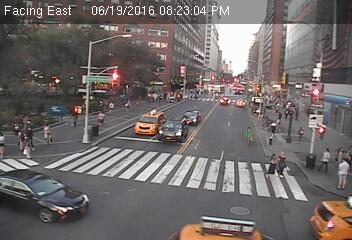neg: (15, 73, 34, 99), (35, 49, 51, 70), (322, 74, 338, 95), (337, 96, 351, 118), (98, 125, 112, 144), (314, 124, 326, 141), (283, 127, 295, 144), (38, 81, 49, 97), (59, 119, 70, 134), (294, 83, 304, 98), (114, 86, 124, 100), (118, 120, 128, 133), (65, 87, 73, 97), (56, 164, 62, 172)
pos: (328, 155, 351, 193), (313, 146, 337, 178), (261, 149, 284, 181), (273, 151, 294, 179), (239, 123, 258, 148), (37, 122, 55, 146), (92, 109, 109, 132), (66, 107, 82, 129), (104, 98, 118, 116), (123, 99, 133, 112)
